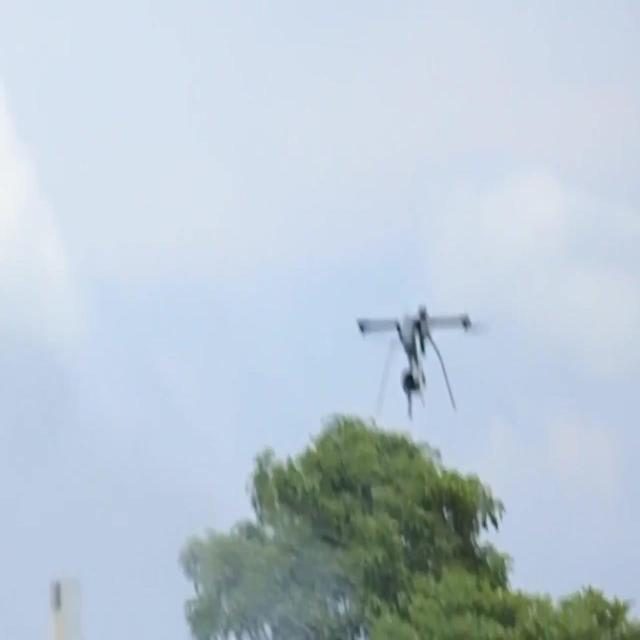drone: (356, 301, 480, 423)
